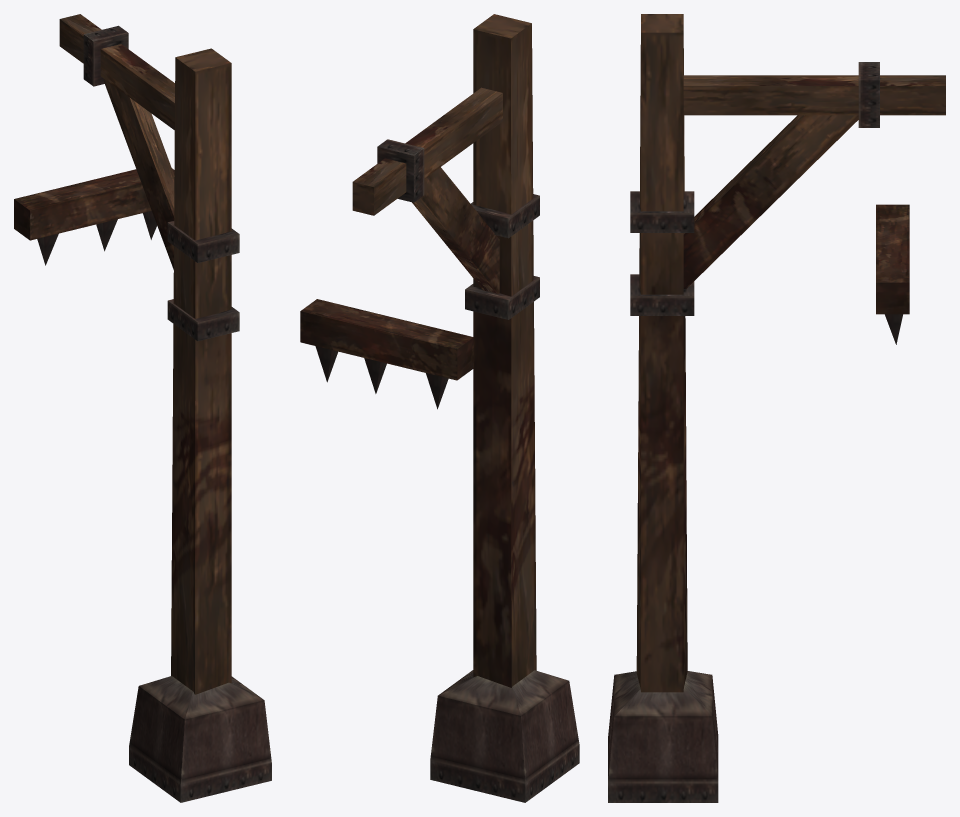
File: blsd_xingju_01.FBX
3 renders of one model, left to right at view 1: azimuth 30°, elevation 25°; view 2: azimuth 150°, elevation 25°; view 3: azimuth 270°, elevation 25°, orthographic. The views are drawn at different scales.
Visible parts, largest first — view 1: blsd_xingju_01; view 2: blsd_xingju_01; view 3: blsd_xingju_01.
Boxes of the visible parts, <box> form: blsd_xingju_01: <box>14,14,271,802</box>; blsd_xingju_01: <box>300,14,579,802</box>; blsd_xingju_01: <box>608,14,945,802</box>.
Bounding box in the file's own units: 88.5 × 162 × 402.
